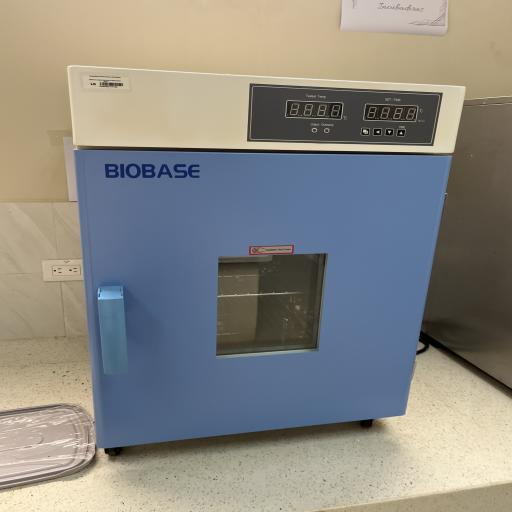Horno_Secado_Biobase: (52, 52, 479, 466)
